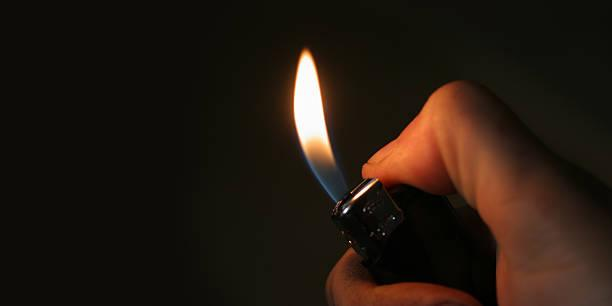Fire: (289, 43, 352, 202)
